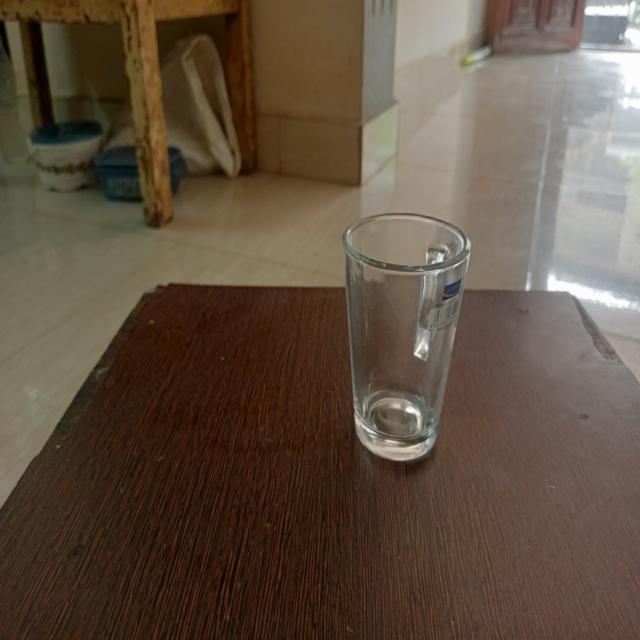glass-VX4N: (340, 212, 473, 464)
